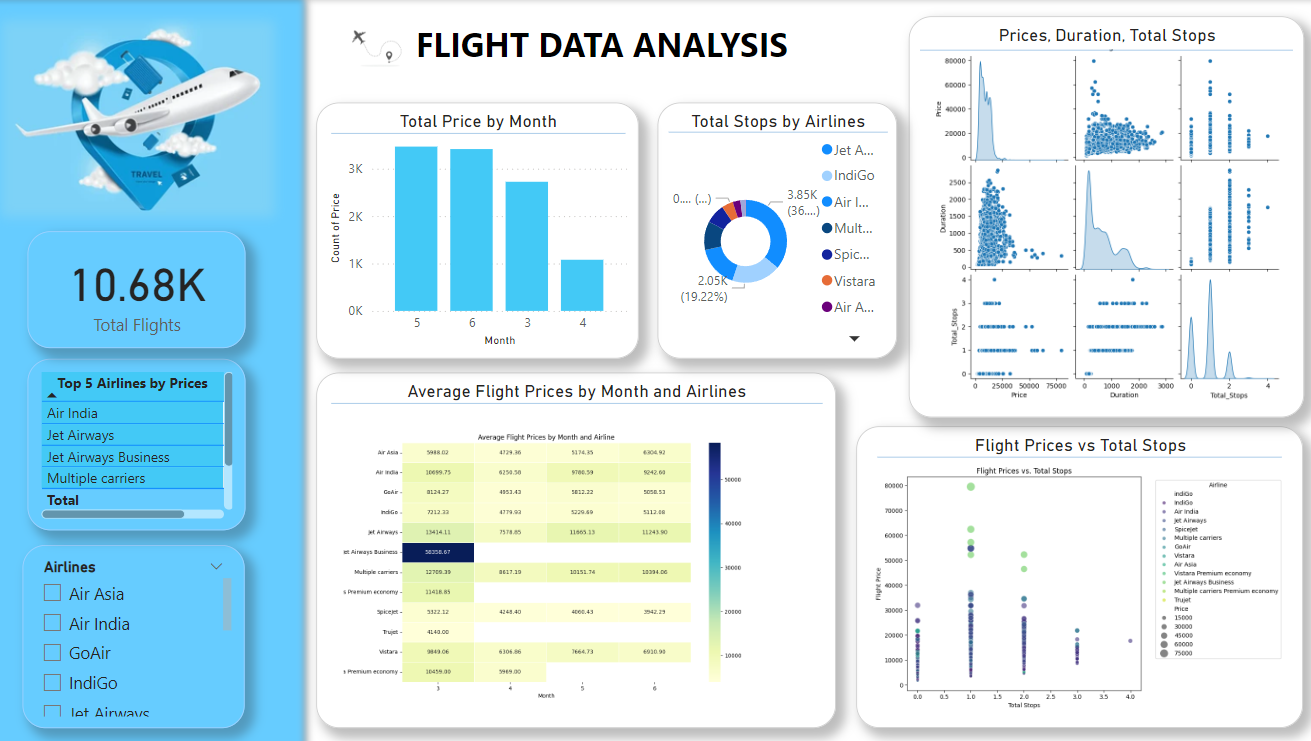

Layout of this report page (visuals, bound fields, positions):
{"tool":"powerbi","page":{"name":"Page 1","canvas":[1280,720],"ordinal":0},"visuals":[{"type":"pythonVisual","title":"Average Flight Prices by Month and Airlines","fields":{"Values":["df.Month","df.Price","df.indiGo"]},"box":[310,360,501.4,342.9],"z":0},{"type":"pythonVisual","title":"Flight Prices vs Total Stops","fields":{"Values":["df.Total_Stops","df.indiGo","df.Price"]},"box":[831.4,411.4,431.4,291.4],"z":1000},{"type":"pythonVisual","title":"Prices, Duration, Total Stops","fields":{"Values":["df.Price","df.Duration_hours","df.Total_Stops"]},"box":[881.4,15.7,381.4,387.1],"z":2000},{"type":"donutChart","title":"Total Stops by Airlines","fields":{"Category":["df.indiGo"],"Y":["CountNonNull(df.Total_Stops)"]},"box":[640,98.6,231.4,247.1],"z":3000},{"type":"columnChart","title":"    Total Price by Month","fields":{"Category":["df.Month"],"Y":["CountNonNull(df.Price)"]},"box":[310,98.6,311.4,247.1],"z":4000},{"type":"slicer","fields":{"Values":["df.indiGo"]},"box":[27.1,525.7,214.3,177.1],"z":5000},{"type":"tableEx","fields":{"Values":["df.indiGo","df.AP"]},"box":[31.4,345.7,210,165.7],"z":6000},{"type":"card","fields":{"Values":["CountNonNull(df.indiGo)"]},"box":[31.4,222.9,210,112.9],"z":7000},{"type":"textbox","box":[310,15.7,551.4,55.7],"z":8000},{"type":"image","box":[322.9,8.6,90,71.4],"z":9000},{"type":"shape","box":[324.3,34.3,284.3,190],"z":10000},{"type":"shape","box":[650,32.9,211.4,190],"z":11000},{"type":"shape","box":[324.3,294.3,474.3,190],"z":12000},{"type":"shape","box":[851.4,345.7,390,190],"z":13000},{"type":"shape","box":[892.9,8.6,360,80],"z":14000}]}

Visuals, with their boxes in screenshot pixels (x1, y1, x2, y2), scaled from the page's 1280x720 canvas onto the 1311x741 screenshot:
"Average Flight Prices by Month and Airlines" pythonVisual: select_region(318, 370, 831, 723)
"Flight Prices vs Total Stops" pythonVisual: select_region(852, 423, 1293, 723)
"Prices, Duration, Total Stops" pythonVisual: select_region(903, 16, 1293, 415)
"Total Stops by Airlines" donutChart: select_region(656, 101, 893, 356)
"    Total Price by Month" columnChart: select_region(318, 101, 636, 356)
slicer - df.indiGo: select_region(28, 541, 247, 723)
tableEx - df.indiGo x df.AP: select_region(32, 356, 247, 526)
card - CountNonNull(df.indiGo): select_region(32, 229, 247, 346)
textbox: select_region(318, 16, 882, 73)
image: select_region(331, 9, 423, 82)
shape: select_region(332, 35, 623, 231)
shape: select_region(666, 34, 882, 229)
shape: select_region(332, 303, 818, 498)
shape: select_region(872, 356, 1271, 551)
shape: select_region(915, 9, 1283, 91)
